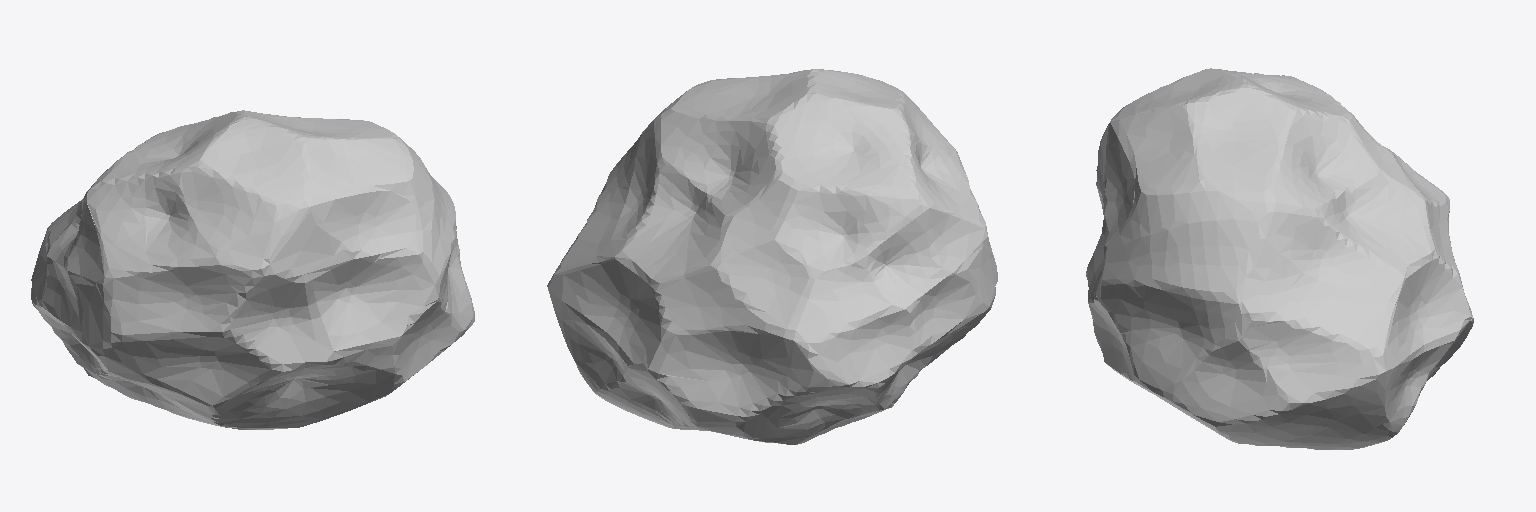
Rendered from stone_item_model.obj.
3 views of the same model, side by side, from view 1: azimuth 30°, elevation 25°; view 2: azimuth 150°, elevation 25°; view 3: azimuth 270°, elevation 25° (orthographic).
Parts seen in each view (by area): view 1: Cube.003; view 2: Cube.003; view 3: Cube.003.
Part boxes in pixels (left/top/right/bottom): Cube.003: left=31, top=110, right=474, bottom=429; Cube.003: left=547, top=69, right=997, bottom=444; Cube.003: left=1086, top=68, right=1473, bottom=449.
Size of the model in its own units: 0.6907 by 0.5335 by 0.5954.